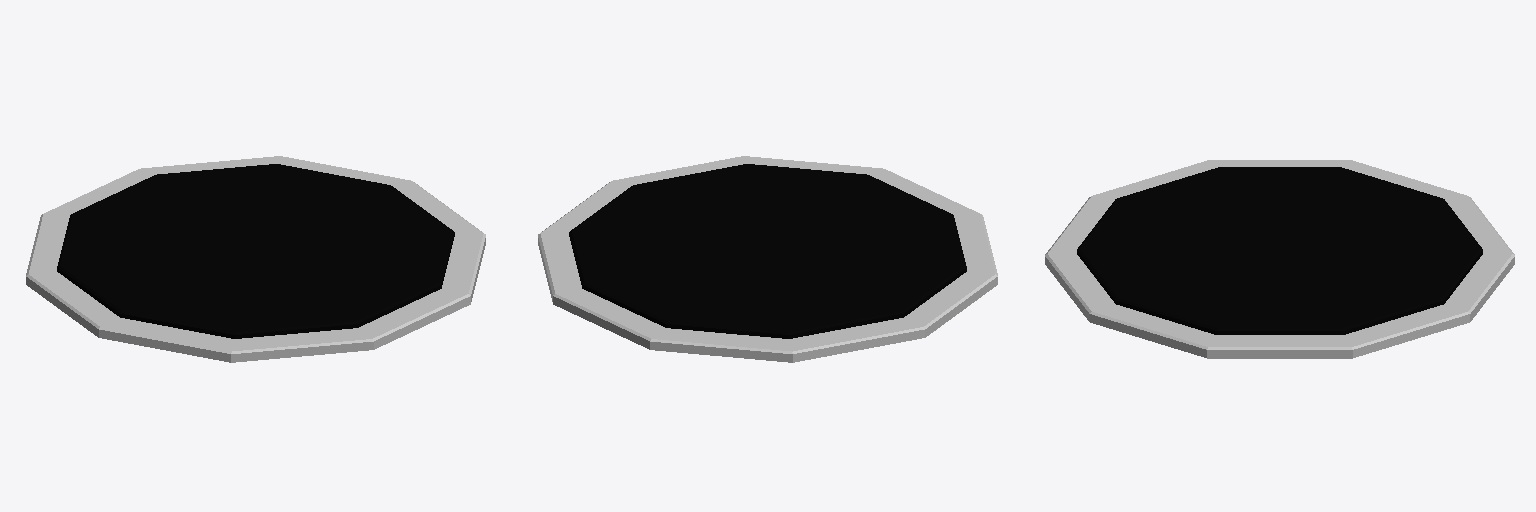
File: HelicopterBase.obj
3 renders of one model, left to right at view 1: azimuth 30°, elevation 25°; view 2: azimuth 150°, elevation 25°; view 3: azimuth 270°, elevation 25°, orthographic.
Parts seen in each view (by area): view 1: HelicopterBase_Cylinder.009; view 2: HelicopterBase_Cylinder.009; view 3: HelicopterBase_Cylinder.009.
Boxes of the visible parts, <box> form: HelicopterBase_Cylinder.009: <box>26,156,485,362</box>; HelicopterBase_Cylinder.009: <box>538,156,997,362</box>; HelicopterBase_Cylinder.009: <box>1045,160,1514,358</box>.
Bounding box in the file's own units: 25.34 × 0.9949 × 26.64.